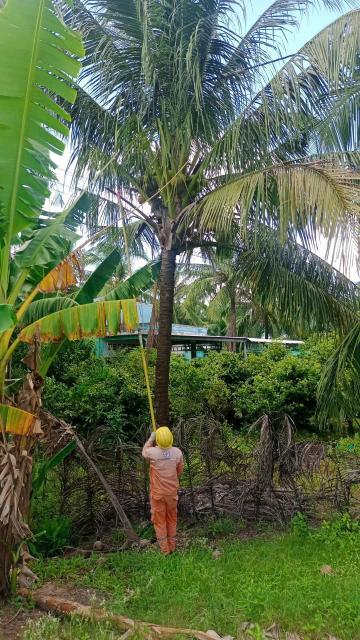gloves: (143, 428, 160, 441)
helmet: (153, 425, 180, 449)
